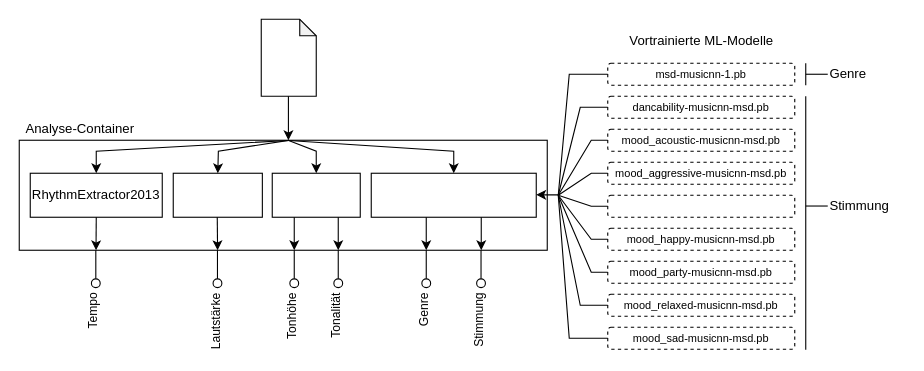
Some shapes in this 924 by 371 pixel diagram are drawn without their labels. Here are the shapes that lost their labels. From the top down, the centre of each, then its label:
At (x=288, y=57): "rec.wav".
At (x=217, y=194): "Loudness".
At (x=315, y=194): "KeyExtractor".
At (x=453, y=194): "TensorflowPredictMusiCNN".
At (x=701, y=205): "mood_electronic-musicnn-msd.pb".
